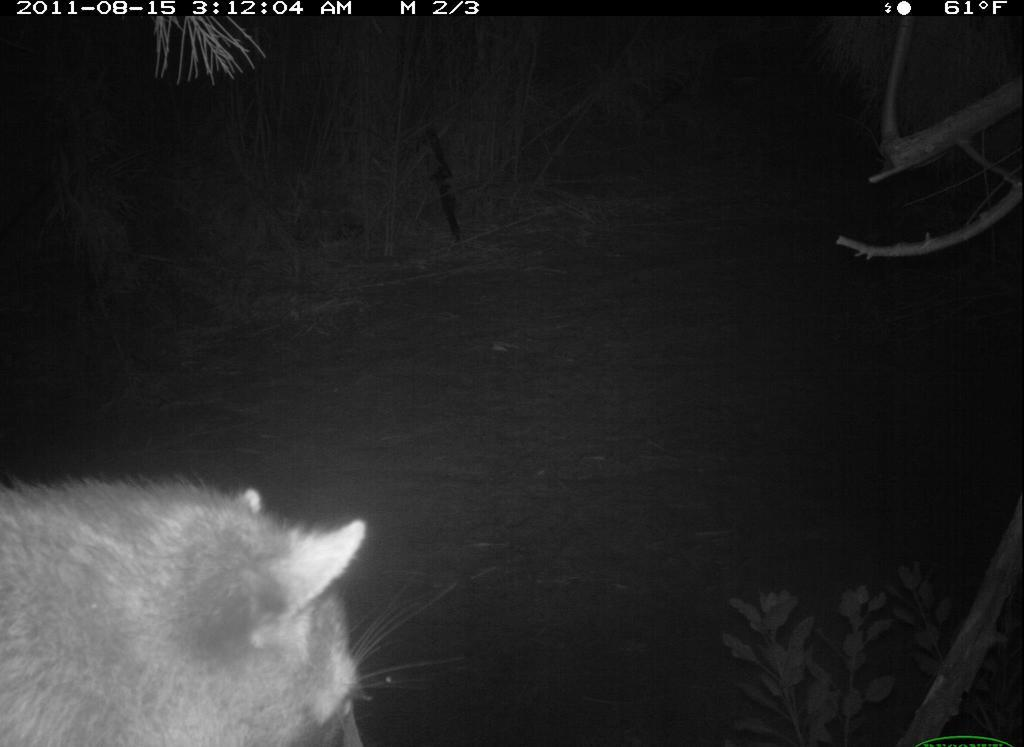raccoon: (6, 447, 387, 747)
